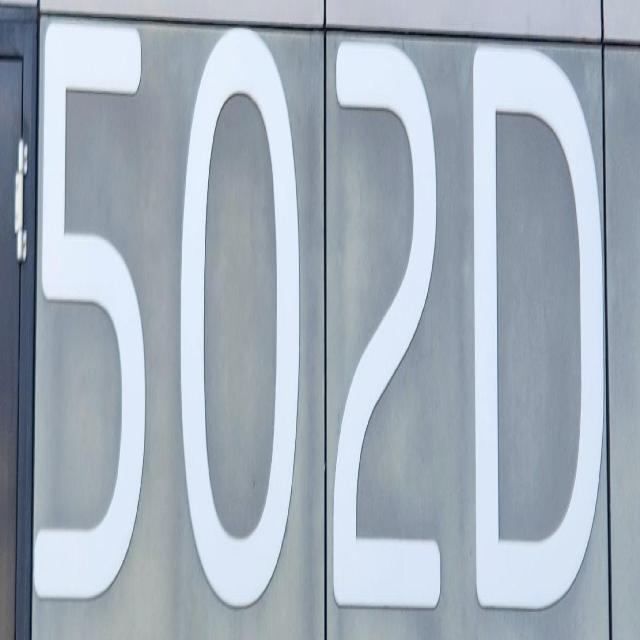character: (470, 36, 608, 618), (176, 22, 302, 614), (31, 14, 152, 610), (330, 30, 444, 616)
